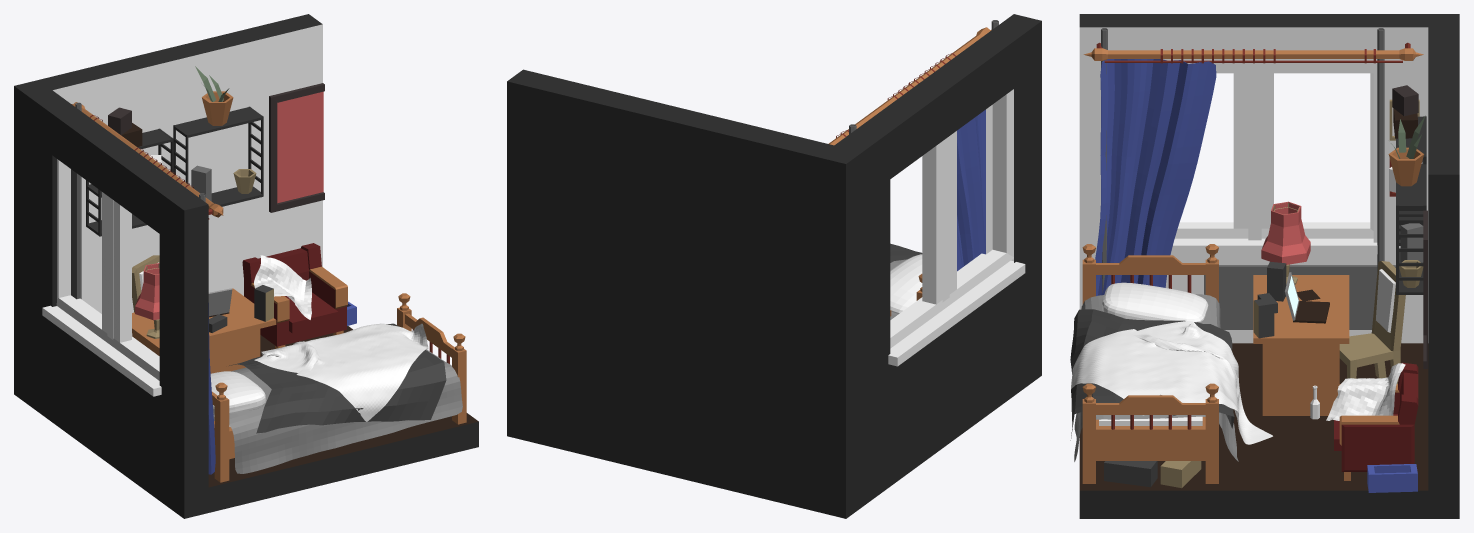
The model's file is isometric_room.glb.
The picture shows the model from 3 angles, left to right: view 1: azimuth 30°, elevation 25°; view 2: azimuth 150°, elevation 25°; view 3: azimuth 270°, elevation 25°; orthographic projection. The views are drawn at different scales.
Parts seen in each view (by area): view 1: Cube, Plane.007, Cube.023, Cube.011, Cube.007, Cube.037, Cube.021, Cube.001, Cube.010, Plane.002, Cube.014, Cube.012 (+15 smaller); view 2: Cube, Cube.011, Cylinder.006, Cube.010, Cube.012, Cube.008, Cylinder.004; view 3: Cube, Cylinder.006, Plane.007, Cube.001, Cube.011, Cube.021, Cube.016, Cube.015, Cube.003, Cube.009, Cube.023, Cube.012 (+26 smaller).
Part boxes in pixels (<box>): Cube: <box>14,14,478,518</box>; Plane.007: <box>254,323,428,421</box>; Cube.023: <box>229,323,446,433</box>; Cube.011: <box>56,159,159,380</box>; Cube.007: <box>229,349,462,473</box>; Cube.037: <box>269,83,324,212</box>; Cube.021: <box>242,243,347,348</box>; Cube.001: <box>132,288,276,373</box>; Cube.010: <box>42,298,161,396</box>; Plane.002: <box>254,255,311,319</box>; Cube.014: <box>175,107,262,206</box>; Cube.012: <box>210,371,265,416</box>; Cube: <box>507,14,1041,518</box>; Cube.011: <box>890,89,1013,348</box>; Cylinder.006: <box>957,109,985,271</box>; Cube.010: <box>888,253,1025,366</box>; Cube.012: <box>890,254,922,313</box>; Cube.008: <box>942,136,949,302</box>; Cylinder.004: <box>828,27,991,145</box>; Cube: <box>1079,14,1459,518</box>; Cylinder.006: <box>1095,59,1216,295</box>; Plane.007: <box>1071,321,1272,444</box>; Cube.001: <box>1253,275,1349,415</box>; Cube.011: <box>1175,73,1373,238</box>; Cube.021: <box>1334,362,1418,480</box>; Cube.016: <box>1204,265,1395,329</box>; Cube.015: <box>1339,261,1405,383</box>; Cube.003: <box>1096,417,1205,460</box>; Cube.009: <box>1096,255,1205,414</box>; Cube.023: <box>1070,309,1234,440</box>; Cube.012: <box>1102,282,1208,322</box>.
Bounding box in the file's own units: 2.3 × 2.18 × 2.23.
